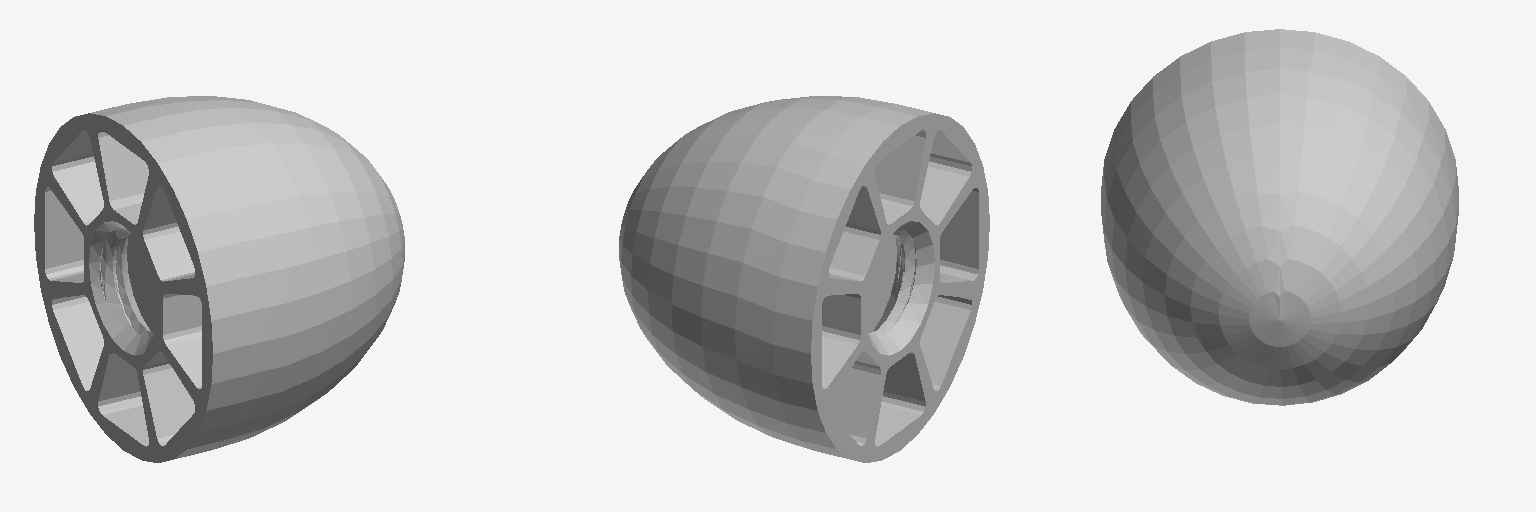
The model's file is Closer 01.obj.
3 views of the same model, side by side, from view 1: azimuth 30°, elevation 25°; view 2: azimuth 150°, elevation 25°; view 3: azimuth 270°, elevation 25° (orthographic).
Visible parts, largest first — view 1: Замыкающая_гайка_№01.001; view 2: Замыкающая_гайка_№01.001; view 3: Замыкающая_гайка_№01.001.
Part boxes in pixels (x1,y1,x2,y2): Замыкающая_гайка_№01.001: (34,96,404,462); Замыкающая_гайка_№01.001: (619,96,989,462); Замыкающая_гайка_№01.001: (1101,29,1458,405).
Size of the model in its own units: 35 by 41 by 41.